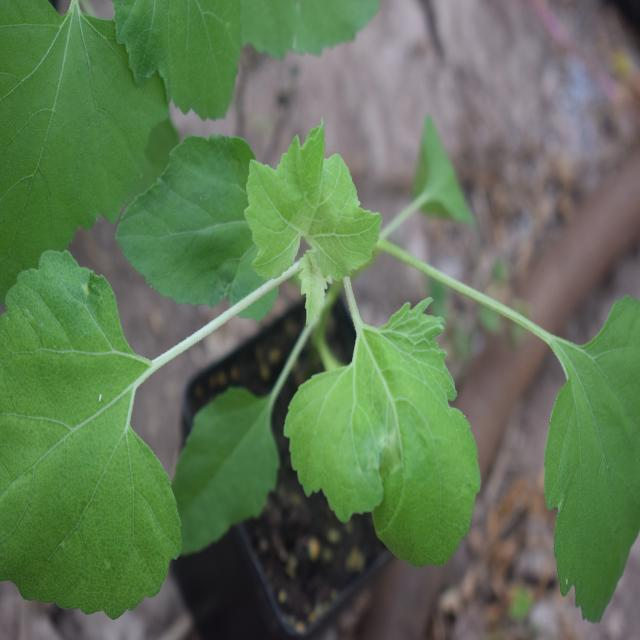cocklebur: (3, 149, 624, 603)
